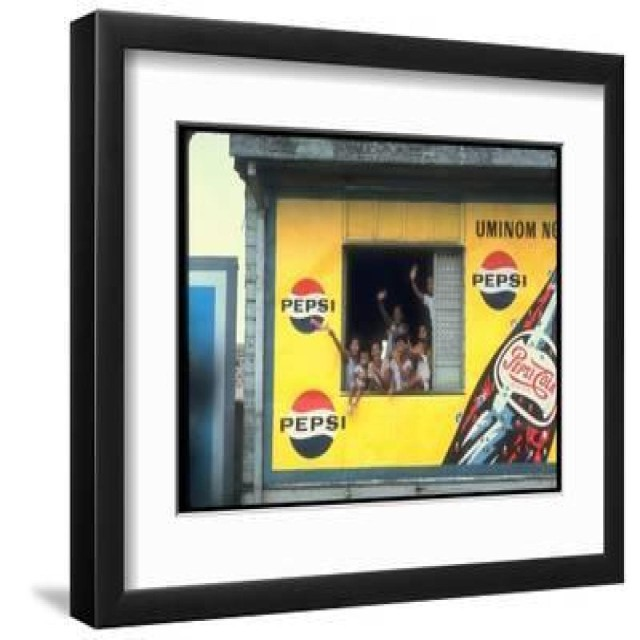pepsi: (287, 388, 336, 459), (479, 247, 524, 314), (286, 276, 328, 333)
